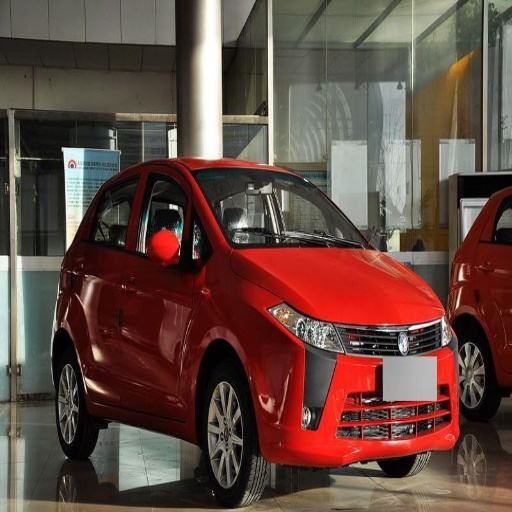front_bumper: (254, 316, 462, 465)
front_right_door: (119, 169, 198, 405)
front_right_light: (268, 303, 343, 353)
